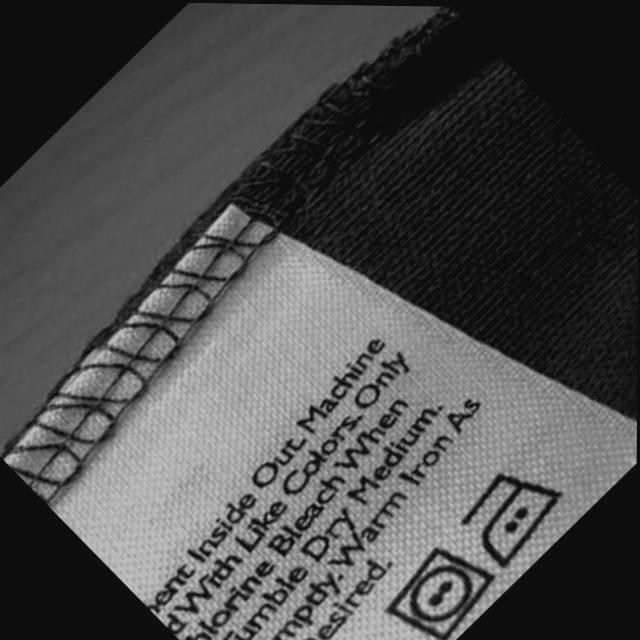iron_medium: (463, 472, 569, 565)
tumble_dry_medium: (388, 549, 498, 638)
